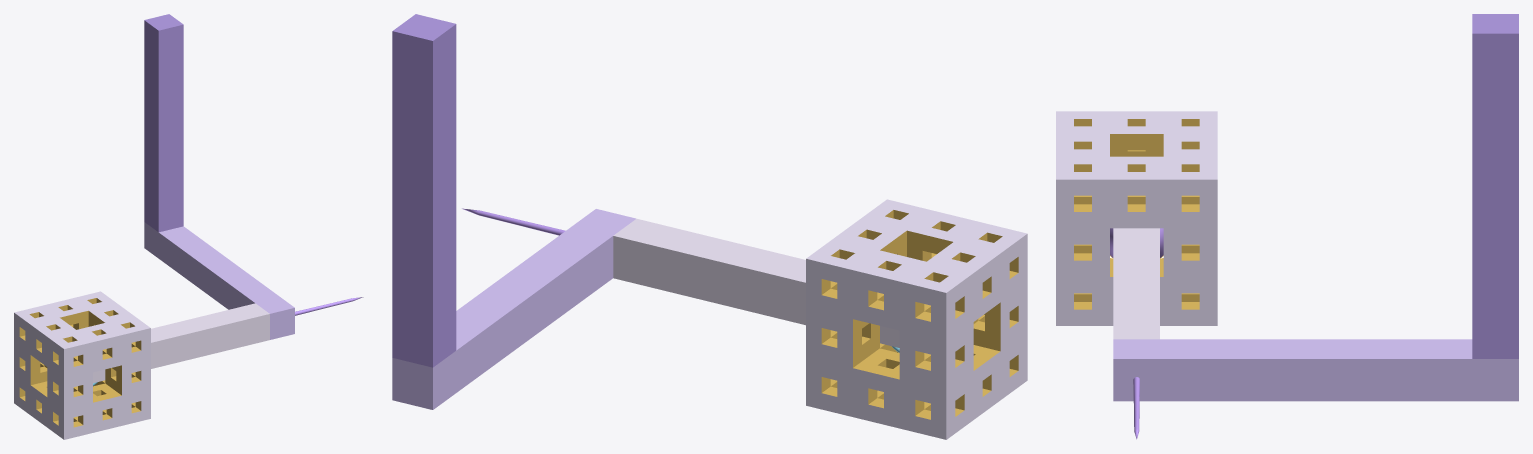
File: paradox_wonders.glb
3 renders of one model, left to right at view 1: azimuth 30°, elevation 25°; view 2: azimuth 150°, elevation 25°; view 3: azimuth 270°, elevation 25°, orthographic. The views are drawn at different scales.
Visible parts, largest first — view 1: vp_tribar, vp_menger; view 2: vp_tribar, vp_menger, vp_horn; view 3: vp_tribar, vp_menger, vp_horn.
Part boxes in pixels (<box>): vp_tribar: <box>93,14,294,383</box>; vp_menger: <box>14,291,150,439</box>; vp_tribar: <box>392,14,899,409</box>; vp_menger: <box>806,199,1027,439</box>; vp_horn: <box>462,208,565,235</box>; vp_tribar: <box>1113,14,1518,401</box>; vp_menger: <box>1056,111,1217,325</box>; vp_horn: <box>1110,228,1163,439</box>.
Size of the model in its own units: 16.85 by 12.9 by 12.9.
